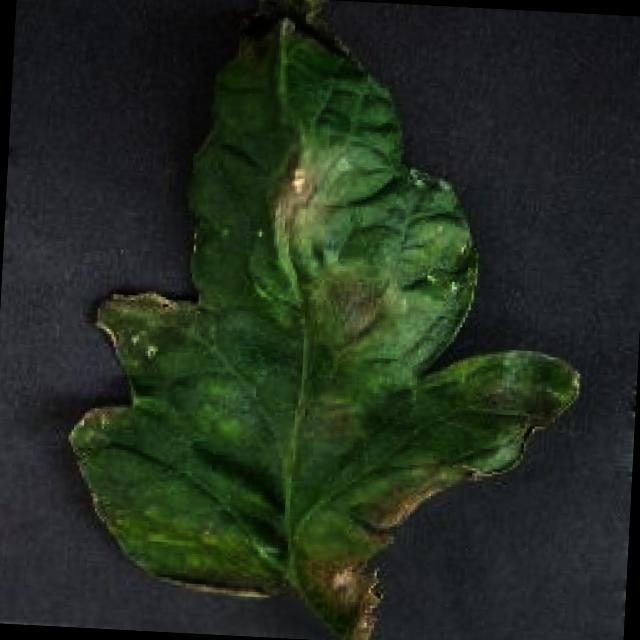Tomato late blight leaf: (52, 0, 601, 640)
